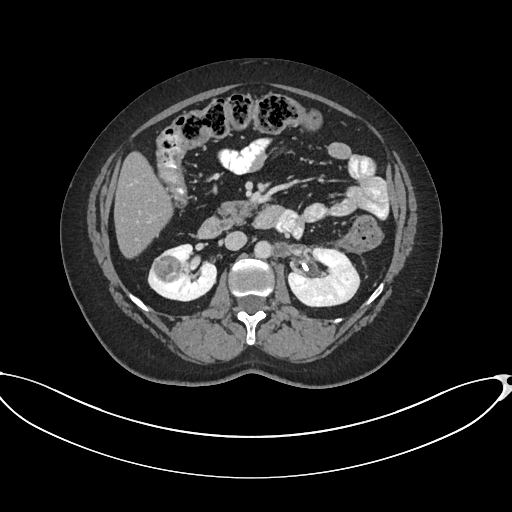Lesion: (149, 253, 185, 287)
